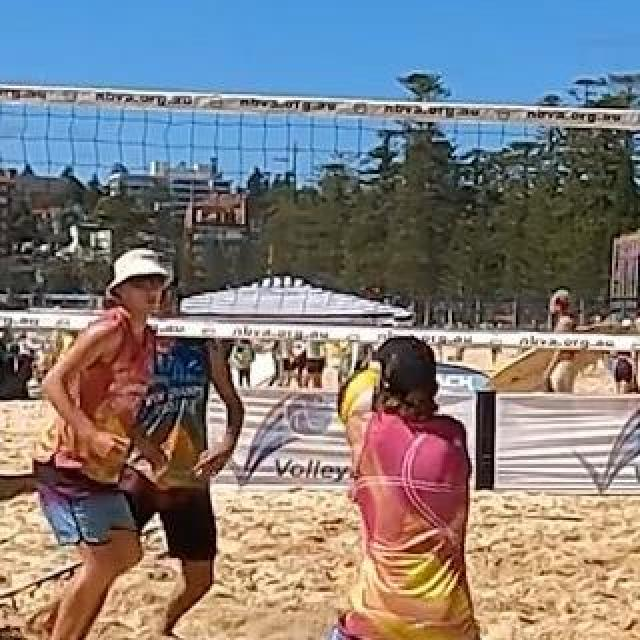volleyball: (336, 366, 410, 440)
